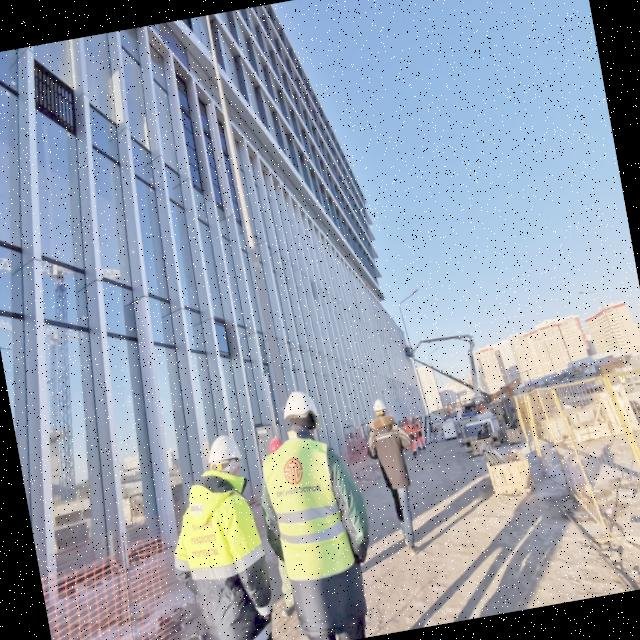Helmet: (278, 388, 325, 443), (204, 432, 247, 483), (371, 397, 390, 419), (404, 418, 410, 425), (413, 417, 417, 423), (481, 406, 485, 411)
